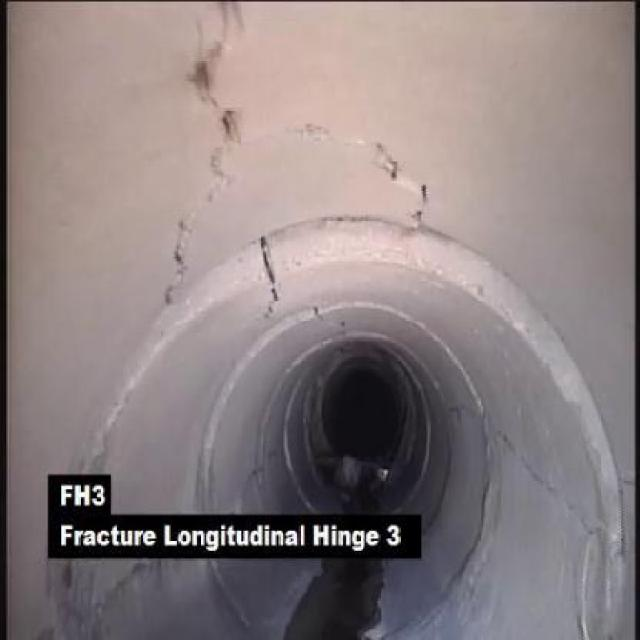Buckling: (355, 130, 460, 222)
Crack: (178, 6, 244, 229), (502, 436, 589, 536), (240, 228, 285, 320), (88, 560, 150, 622), (155, 231, 197, 300)
Joint offset: (529, 302, 620, 483), (423, 223, 523, 315), (286, 214, 411, 281)
